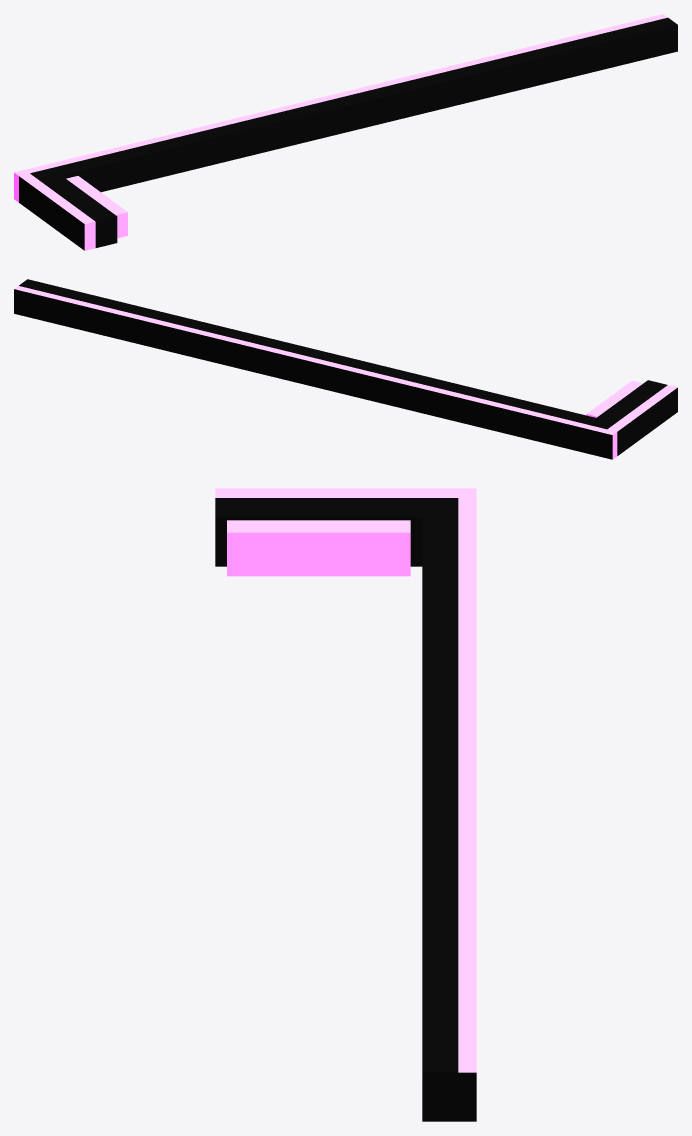
Rendered from FallenStreetLamp .fbx.
3 views of the same model, one above another, from view 1: azimuth 30°, elevation 25°; view 2: azimuth 150°, elevation 25°; view 3: azimuth 270°, elevation 25° (orthographic). The views are drawn at different scales.
Parts seen in each view (by area): view 1: Cube.001; view 2: Cube.001; view 3: Cube.001.
Boxes of the visible parts, left/top/right/bottom form: Cube.001: left=14, top=14, right=677, bottom=250; Cube.001: left=14, top=279, right=677, bottom=459; Cube.001: left=215, top=488, right=476, bottom=1121.
Bounding box in the file's own units: 1114 × 43.8 × 210.
